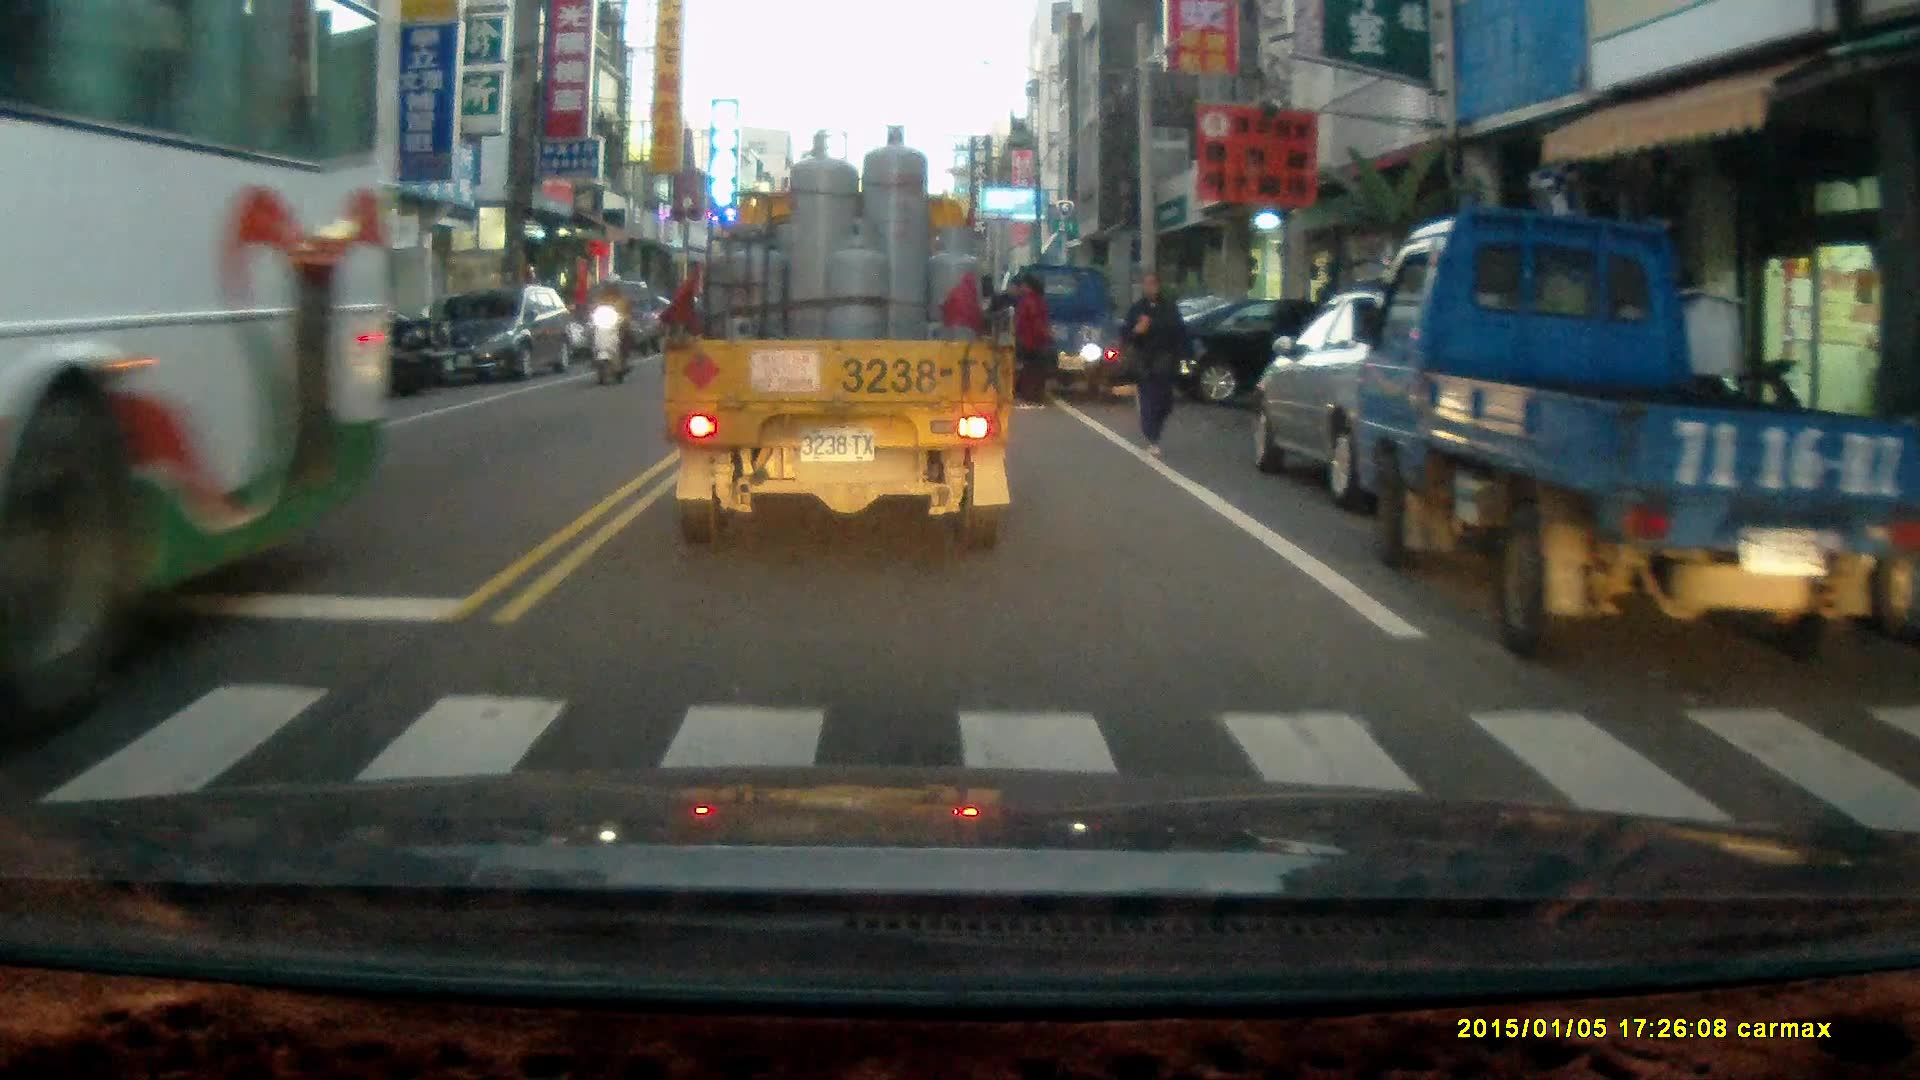pedestrian: (1119, 270, 1205, 456), (1012, 273, 1049, 407)
rider: (585, 268, 635, 384)
vehicle: (1, 2, 387, 668), (1349, 204, 1893, 664), (663, 123, 1018, 554), (1243, 283, 1562, 516), (1152, 292, 1415, 415), (998, 261, 1139, 402), (439, 284, 576, 386), (578, 278, 672, 362)
